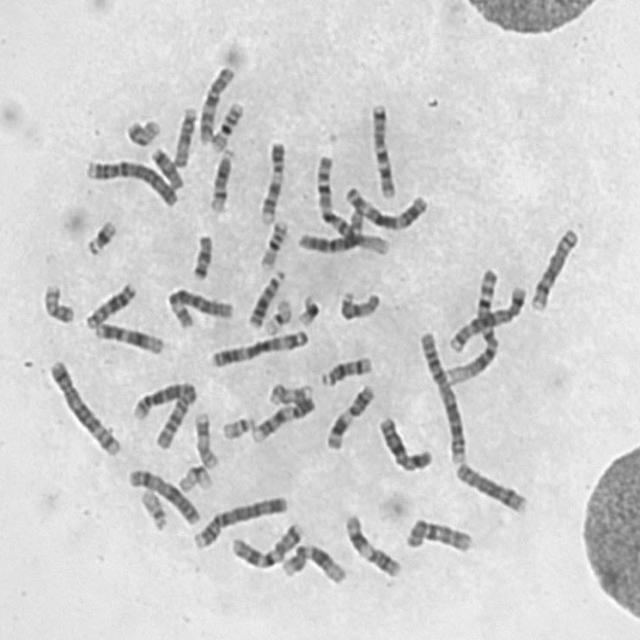A1: (314, 152, 394, 258), (442, 267, 502, 387)
A2: (417, 330, 470, 466), (130, 379, 201, 454)
A3: (209, 328, 309, 371), (342, 186, 430, 233)
B4: (192, 494, 288, 552), (82, 158, 180, 210)
B5: (45, 356, 124, 458), (448, 283, 528, 354)
C10: (198, 65, 237, 148), (404, 518, 476, 560)
C11: (342, 510, 403, 580), (325, 383, 377, 452)
C12: (281, 542, 350, 586), (94, 322, 166, 357)
C6: (163, 284, 236, 331), (295, 208, 366, 256)
C7: (228, 519, 306, 571), (370, 101, 398, 200)
C8: (528, 226, 582, 314), (453, 463, 528, 516)
C9: (250, 396, 319, 444), (258, 139, 290, 229)
D13: (83, 281, 139, 331), (247, 268, 290, 330)
D14: (207, 149, 236, 215), (320, 354, 374, 388)
D15: (170, 104, 199, 169), (336, 290, 381, 322)
E16: (211, 100, 246, 153), (258, 218, 290, 272)
E17: (193, 410, 220, 470), (266, 379, 316, 408)
E18: (148, 147, 184, 190), (189, 232, 214, 285)
F19: (255, 296, 293, 338), (177, 464, 216, 494)
F20: (38, 279, 78, 329), (125, 118, 162, 149)
G21: (82, 218, 121, 259), (294, 294, 320, 328)
G22: (138, 488, 170, 533), (220, 416, 258, 442)
X: (125, 467, 203, 528), (377, 414, 435, 476)
